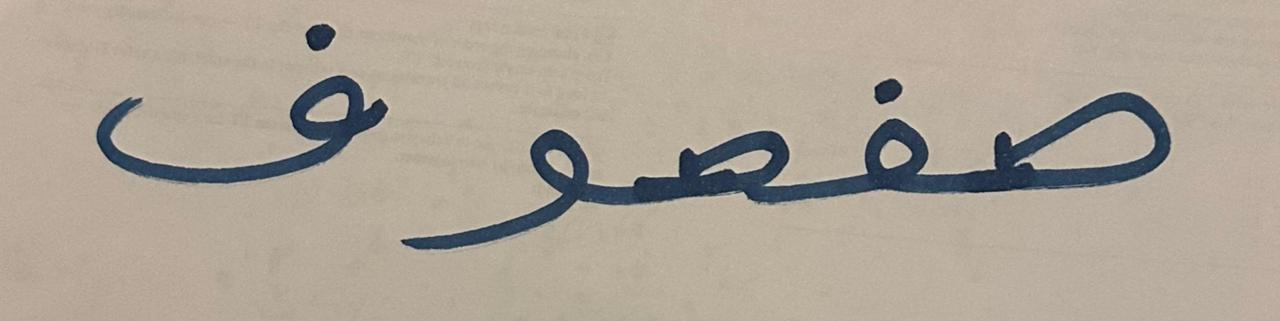feh: (62, 12, 398, 215), (807, 29, 962, 256)
seen: (964, 35, 1206, 240), (625, 35, 802, 247)
yeh: (401, 67, 622, 282)
